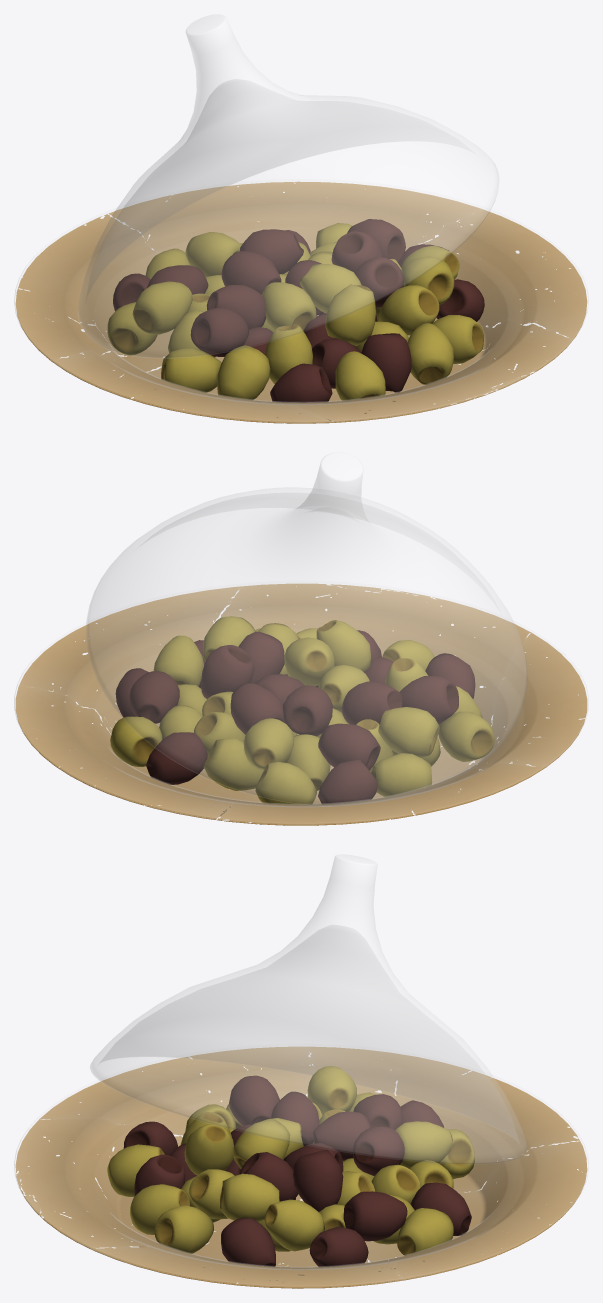
File: IridescentDishWithOlives.gltf
3 views of the same model, one above another, from view 1: azimuth 30°, elevation 25°; view 2: azimuth 150°, elevation 25°; view 3: azimuth 270°, elevation 25° (orthographic).
Visible parts, largest first — view 1: glassCover, goldLeaf, glassDish, olives; view 2: glassCover, glassDish, goldLeaf, olives; view 3: glassCover, goldLeaf, olives, glassDish.
Boxes of the visible parts, bbox=[...] form: glassCover: bbox=[78, 14, 499, 358]; goldLeaf: bbox=[15, 181, 587, 423]; glassDish: bbox=[14, 179, 588, 422]; olives: bbox=[107, 219, 484, 402]; glassCover: bbox=[86, 452, 527, 805]; glassDish: bbox=[14, 581, 588, 824]; goldLeaf: bbox=[15, 583, 587, 825]; olives: bbox=[110, 616, 494, 804]; glassCover: bbox=[90, 854, 527, 1164]; goldLeaf: bbox=[15, 1047, 587, 1288]; olives: bbox=[107, 1066, 474, 1267]; glassDish: bbox=[14, 1057, 588, 1287].
Bounding box in the file's own units: 0.4593 × 0.2855 × 0.4593.
Materials: 5 (2 with a texture image).
